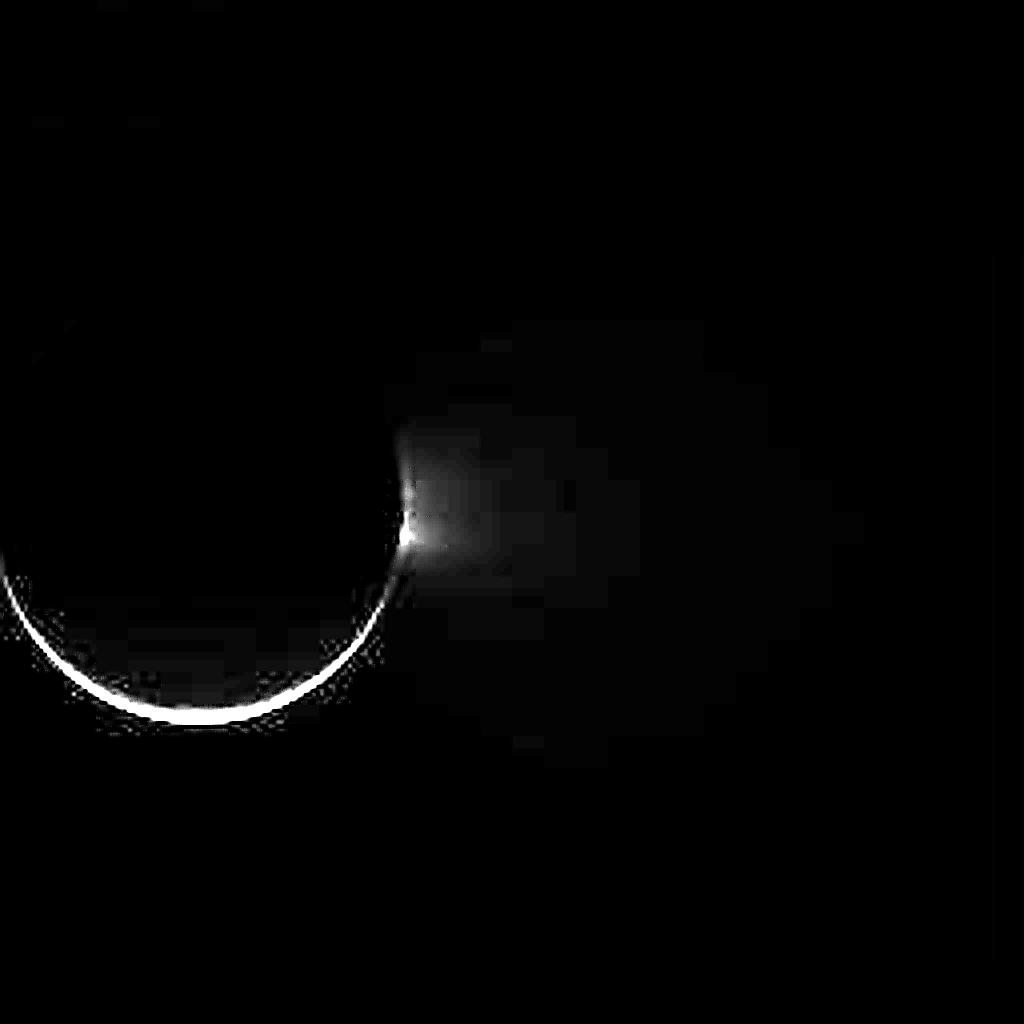plumes: (397, 460, 432, 550)
